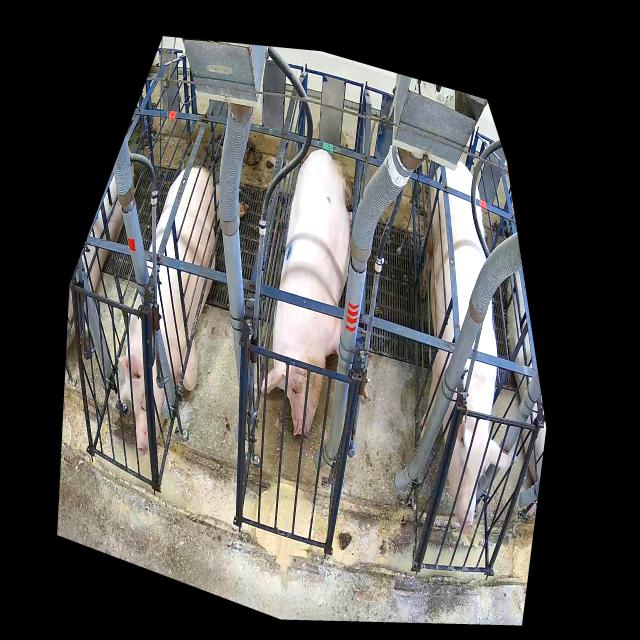pig: (116, 164, 249, 454), (420, 161, 517, 526), (261, 148, 367, 437)
